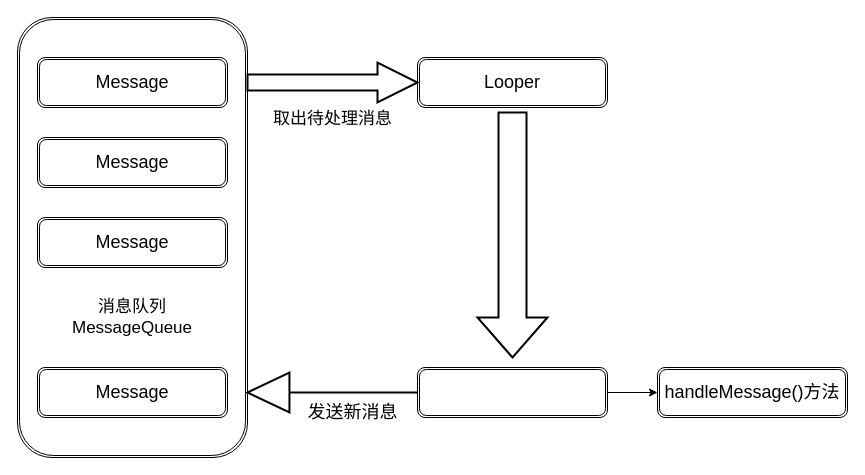
The diagram is 865 pixels wide and 475 high, and some of its shapes have lost their labels. Here are the shapes that lost their labels. From the top down, the centre of each, then its label:
the point at 512,234: 回调disPatchMessage()方法
the point at 512,392: Handler
